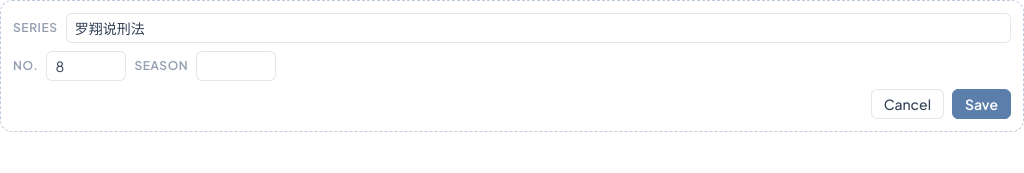
Test: DigestFacets edit › invalid number abc blocks save
Replace the text in the field labelled "No." with "abc" at (86, 66), box left=46, top=51, right=126, bottom=81
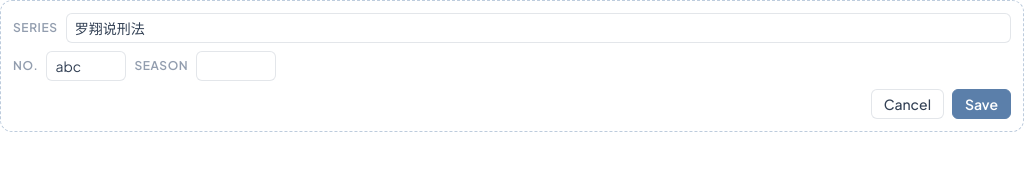
Click the button "Save" at (982, 104), box left=952, top=89, right=1011, bottom=119
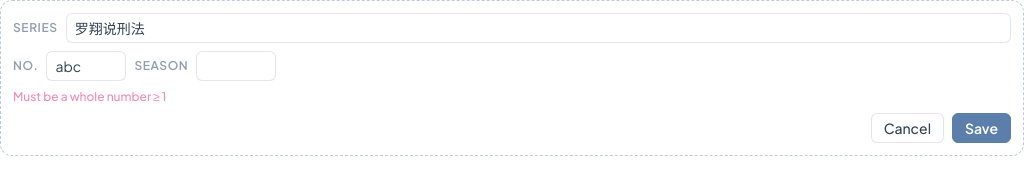
Check: the text "Must be a whole number ≥ 1" is shown, box left=13, top=89, right=166, bottom=104
